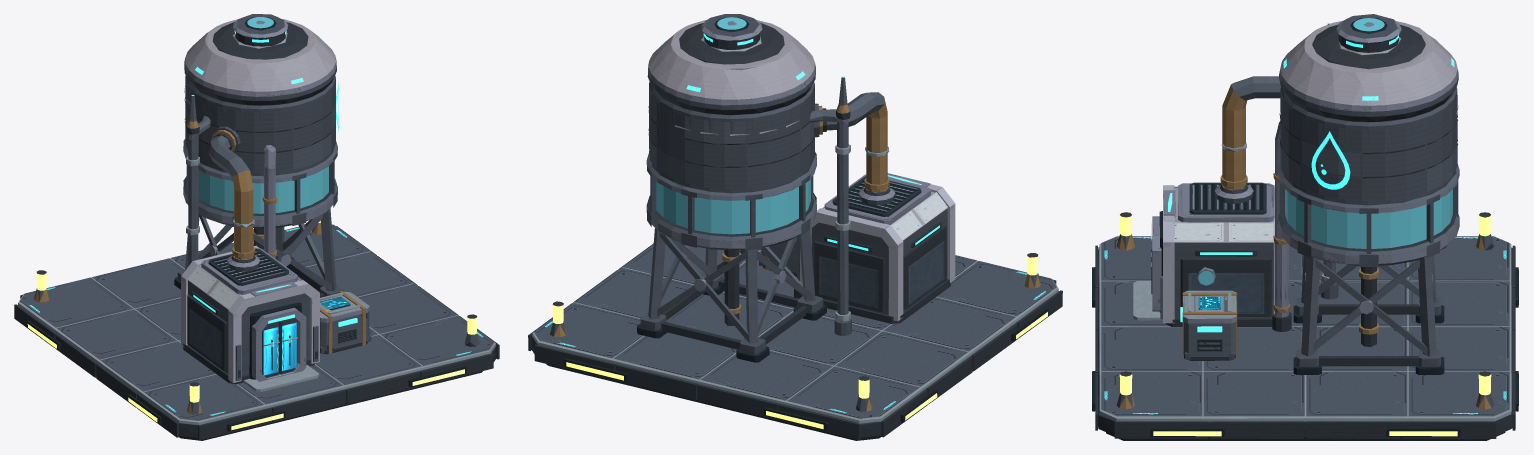
The model's file is TA02_TorreDeAguaModular_Distancia.fbx.
3 views of the same model, side by side, from view 1: azimuth 30°, elevation 25°; view 2: azimuth 150°, elevation 25°; view 3: azimuth 270°, elevation 25° (orthographic). The views are drawn at different scales.
Visible parts, largest first — view 1: EstructuraDistante_2, CristalYAguaDistantes_2; view 2: EstructuraDistante_2, CristalYAguaDistantes_2; view 3: EstructuraDistante_2, CristalYAguaDistantes_2.
Boxes of the visible parts, x1,y1,x2,y2 form: EstructuraDistante_2: (14,14,499,440); CristalYAguaDistantes_2: (199,17,328,213); EstructuraDistante_2: (528,14,1062,440); CristalYAguaDistantes_2: (656,17,810,234); EstructuraDistante_2: (1091,14,1519,440); CristalYAguaDistantes_2: (1198,18,1452,285).
Bounding box in the file's own units: 5.69 × 4.89 × 5.47.
